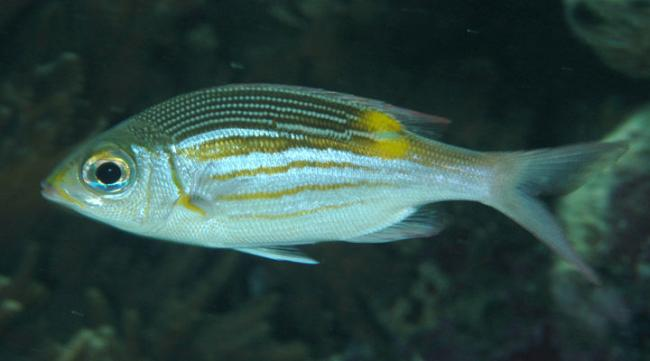fish: (41, 82, 628, 289)
